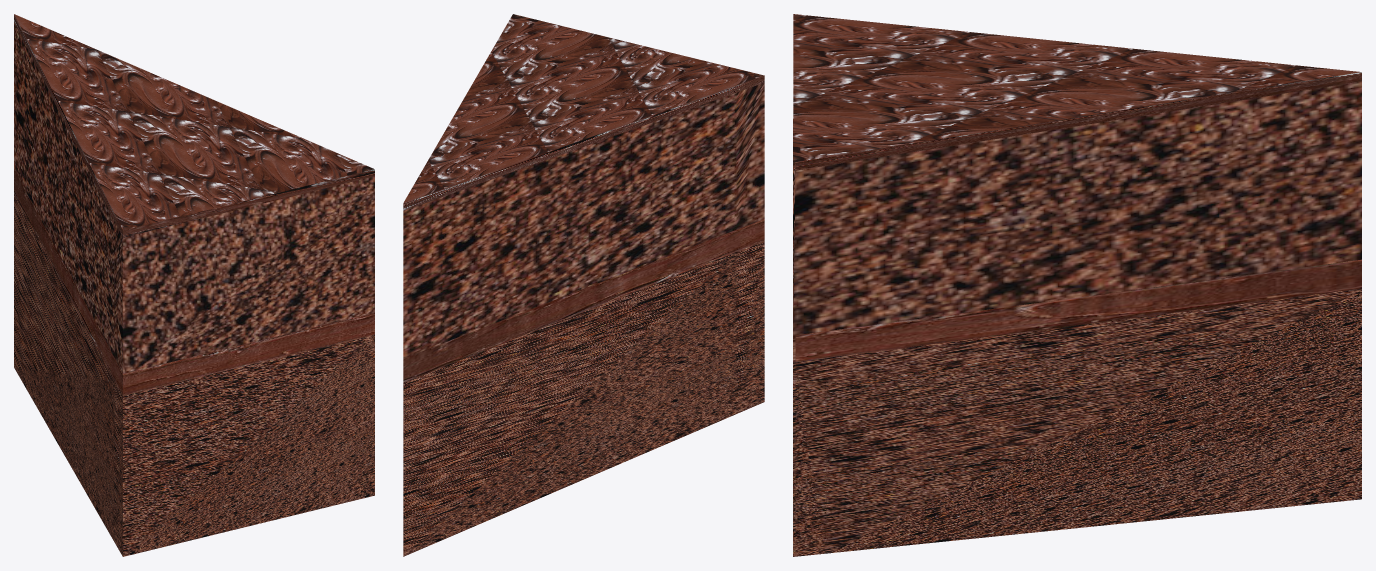
File: Cake.fbx
The picture shows the model from 3 angles, left to right: view 1: azimuth 30°, elevation 25°; view 2: azimuth 150°, elevation 25°; view 3: azimuth 270°, elevation 25°; orthographic projection. The views are drawn at different scales.
Visible parts, largest first — view 1: pPrism1; view 2: pPrism1; view 3: pPrism1.
Part boxes in pixels (x1,y1,x2,y2): pPrism1: [14, 14, 374, 556]; pPrism1: [403, 14, 764, 556]; pPrism1: [793, 14, 1361, 556].
Bounding box in the file's own units: 0.5353 × 0.718 × 0.8663.
